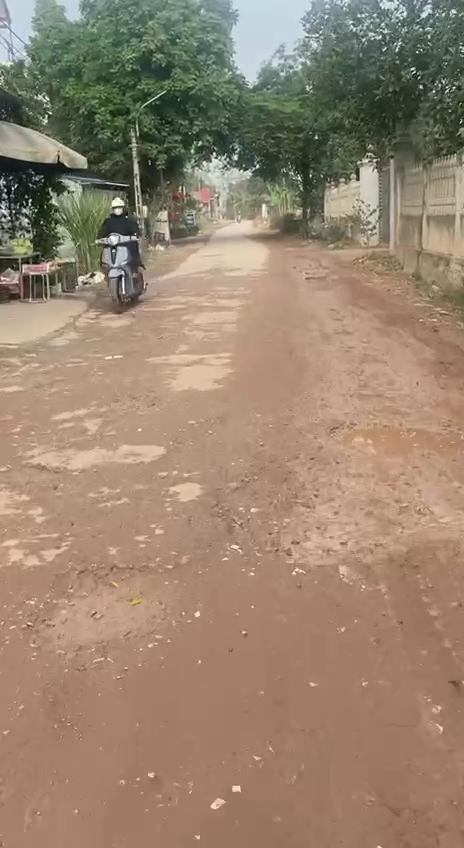pothole: (36, 562, 174, 652), (263, 510, 385, 568), (331, 414, 464, 460)
